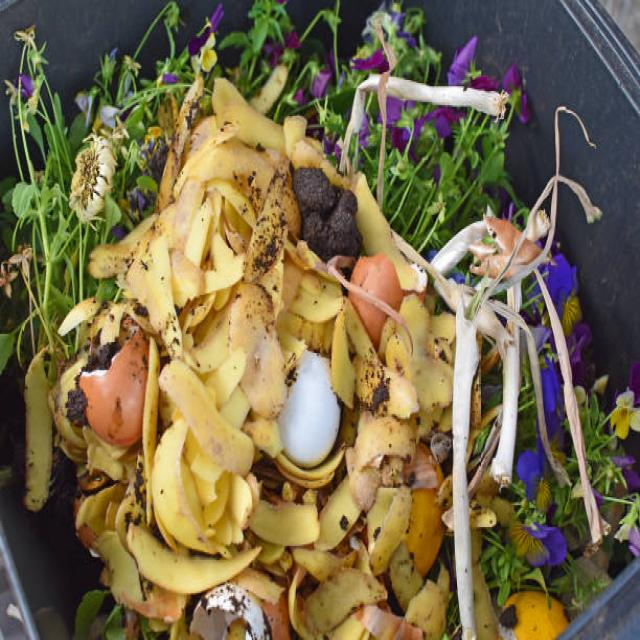Organic: (56, 76, 575, 630)
